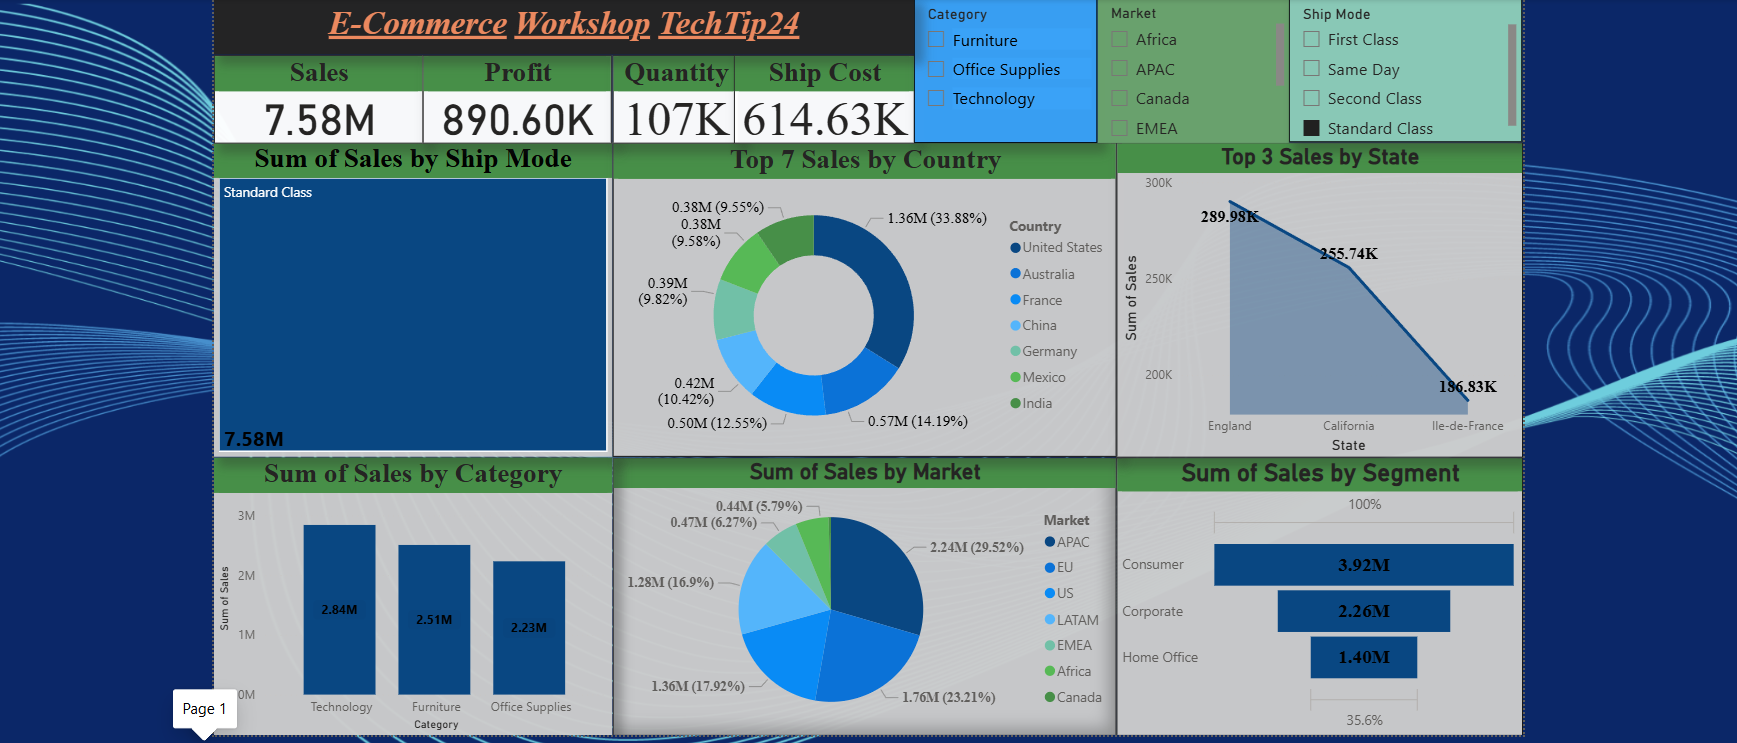

The dashboard page shown, as its layout file describes it:
{"tool":"powerbi","page":{"name":"Page 1","canvas":[1280,720],"ordinal":0},"visuals":[{"type":"pieChart","fields":{"Category":["Orders.Market"],"Y":["Sum(Orders.Sales)"]},"box":[389.7,448.7,492.6,271.7],"z":0},{"type":"columnChart","fields":{"Y":["Sum(Orders.Sales)"],"Category":["Orders.Category"]},"box":[0,448.7,389.7,271.7],"z":1000},{"type":"funnel","fields":{"Category":["Orders.Segment"],"Y":["Sum(Orders.Sales)"]},"box":[882.3,448.7,397.9,271.7],"z":2000},{"type":"treemap","fields":{"Details":["Orders.Ship Mode"],"Values":["Sum(Orders.Sales)"]},"box":[0,140.7,389.5,307],"z":3000},{"type":"donutChart","title":"Top 7 Sales by Country ","fields":{"Category":["Orders.Country"],"Y":["Sum(Orders.Sales)"]},"box":[389.5,140.7,493,307],"z":4000},{"type":"areaChart","title":"Top 3 Sales by State","fields":{"Category":["Orders.State"],"Y":["Sum(Orders.Sales)"]},"box":[882.6,140.7,397.7,308.1],"z":5000},{"type":"card","title":"Sales","fields":{"Values":["Sum(Orders.Sales)"]},"box":[0,54.7,204.7,86],"z":6000},{"type":"card","title":"Profit","fields":{"Values":["Sum(Orders.Profit)"]},"box":[204.7,54.7,184.9,86],"z":7000},{"type":"card","title":"Quantity","fields":{"Values":["Sum(Orders.Quantity)"]},"box":[389.5,54.7,123.3,86],"z":8000},{"type":"card","title":"Ship Cost","fields":{"Values":["Sum(Orders.Shipping Cost)"]},"box":[508.1,54.7,176.7,86],"z":9000},{"type":"slicer","fields":{"Values":["Orders.Category"]},"box":[684.9,0,179.1,140.7],"z":10000},{"type":"slicer","fields":{"Values":["Orders.Market"]},"box":[864,0,187.2,140.7],"z":11000},{"type":"slicer","fields":{"Values":["Orders.Ship Mode"]},"box":[1051.2,0,228.3,140.2],"z":12000},{"type":"textbox","box":[0,0,684.9,54.7],"z":13000}]}

Visuals, with their boxes in screenshot pixels (x1, y1, x2, y2):
pieChart - Orders.Market x Sum(Orders.Sales): (left=609, top=451, right=1109, bottom=727)
columnChart - Sum(Orders.Sales) x Orders.Category: (left=213, top=451, right=609, bottom=727)
funnel - Orders.Segment x Sum(Orders.Sales): (left=1109, top=451, right=1513, bottom=727)
treemap - Orders.Ship Mode x Sum(Orders.Sales): (left=213, top=138, right=608, bottom=450)
"Top 7 Sales by Country " donutChart: (left=608, top=138, right=1109, bottom=450)
"Top 3 Sales by State" areaChart: (left=1109, top=138, right=1514, bottom=452)
"Sales" card: (left=213, top=51, right=421, bottom=138)
"Profit" card: (left=421, top=51, right=608, bottom=138)
"Quantity" card: (left=608, top=51, right=734, bottom=138)
"Ship Cost" card: (left=729, top=51, right=908, bottom=138)
slicer - Orders.Category: (left=909, top=0, right=1091, bottom=138)
slicer - Orders.Market: (left=1091, top=0, right=1281, bottom=138)
slicer - Orders.Ship Mode: (left=1281, top=0, right=1513, bottom=138)
textbox: (left=213, top=0, right=909, bottom=51)
